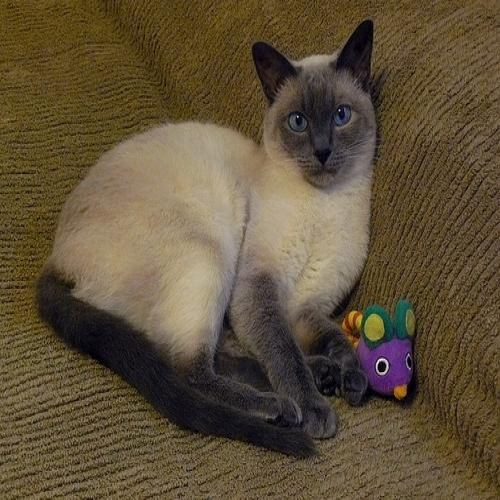siamese: (247, 7, 387, 209)
